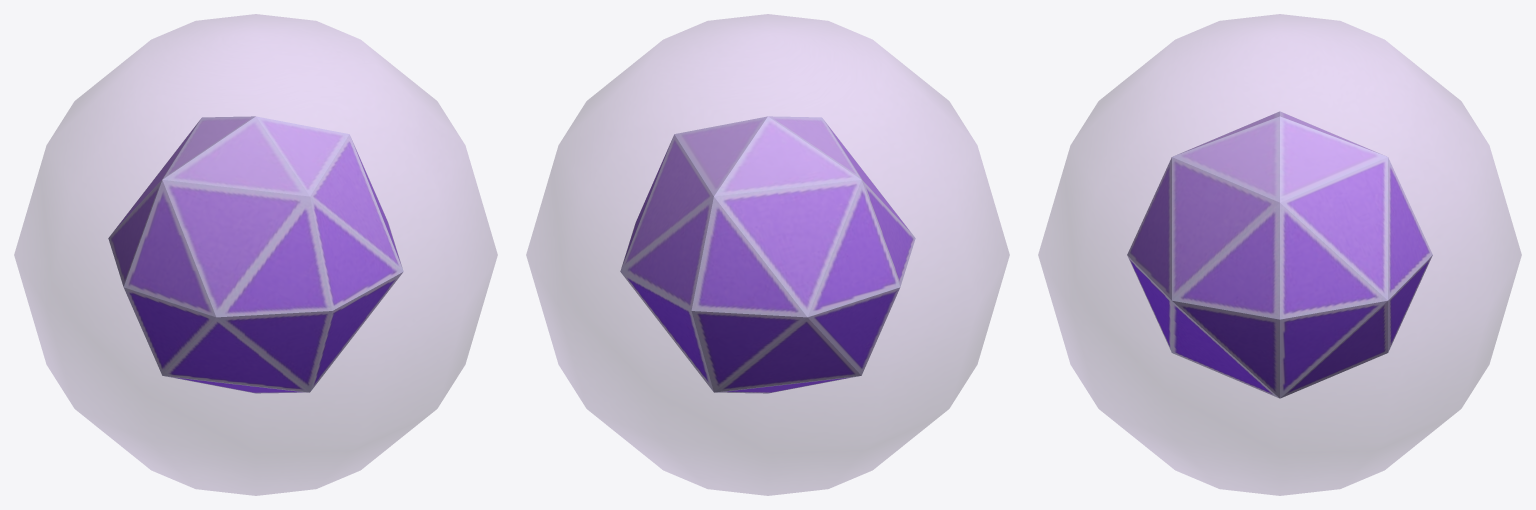
Rendered from 3Dpointer.gltf.
3 renders of one model, left to right at view 1: azimuth 30°, elevation 25°; view 2: azimuth 150°, elevation 25°; view 3: azimuth 270°, elevation 25°, orthographic.
Parts seen in each view (by area): view 1: sphere_A, geo; view 2: sphere_A, geo; view 3: sphere_A, geo.
Boxes of the visible parts, <box> form: sphere_A: <box>14,14,497,495</box>; geo: <box>108,116,403,393</box>; sphere_A: <box>526,14,1009,495</box>; geo: <box>620,116,915,393</box>; sphere_A: <box>1038,14,1521,495</box>; geo: <box>1127,111,1432,398</box>.
Size of the model in its own units: 5.79 by 5.79 by 5.79.
2 materials, 2 textured.
